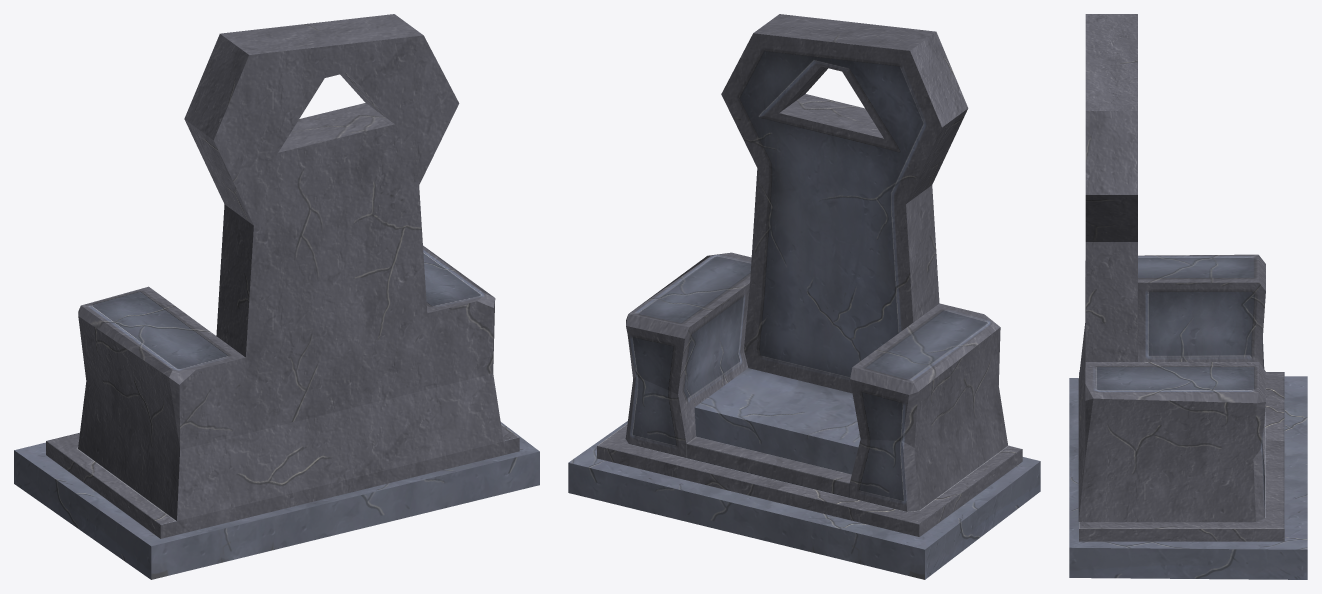
The model's file is Throne01.FBX.
3 renders of one model, left to right at view 1: azimuth 30°, elevation 25°; view 2: azimuth 150°, elevation 25°; view 3: azimuth 270°, elevation 25°, orthographic. The views are drawn at different scales.
Parts seen in each view (by area): view 1: Throne_01; view 2: Throne_01; view 3: Throne_01.
Boxes of the visible parts, box(x1,y1,x2,y2) form: Throne_01: box(14, 14, 539, 579); Throne_01: box(568, 14, 1040, 579); Throne_01: box(1069, 14, 1307, 579).
Size of the model in its own units: 65.61 by 77.78 by 38.07.
